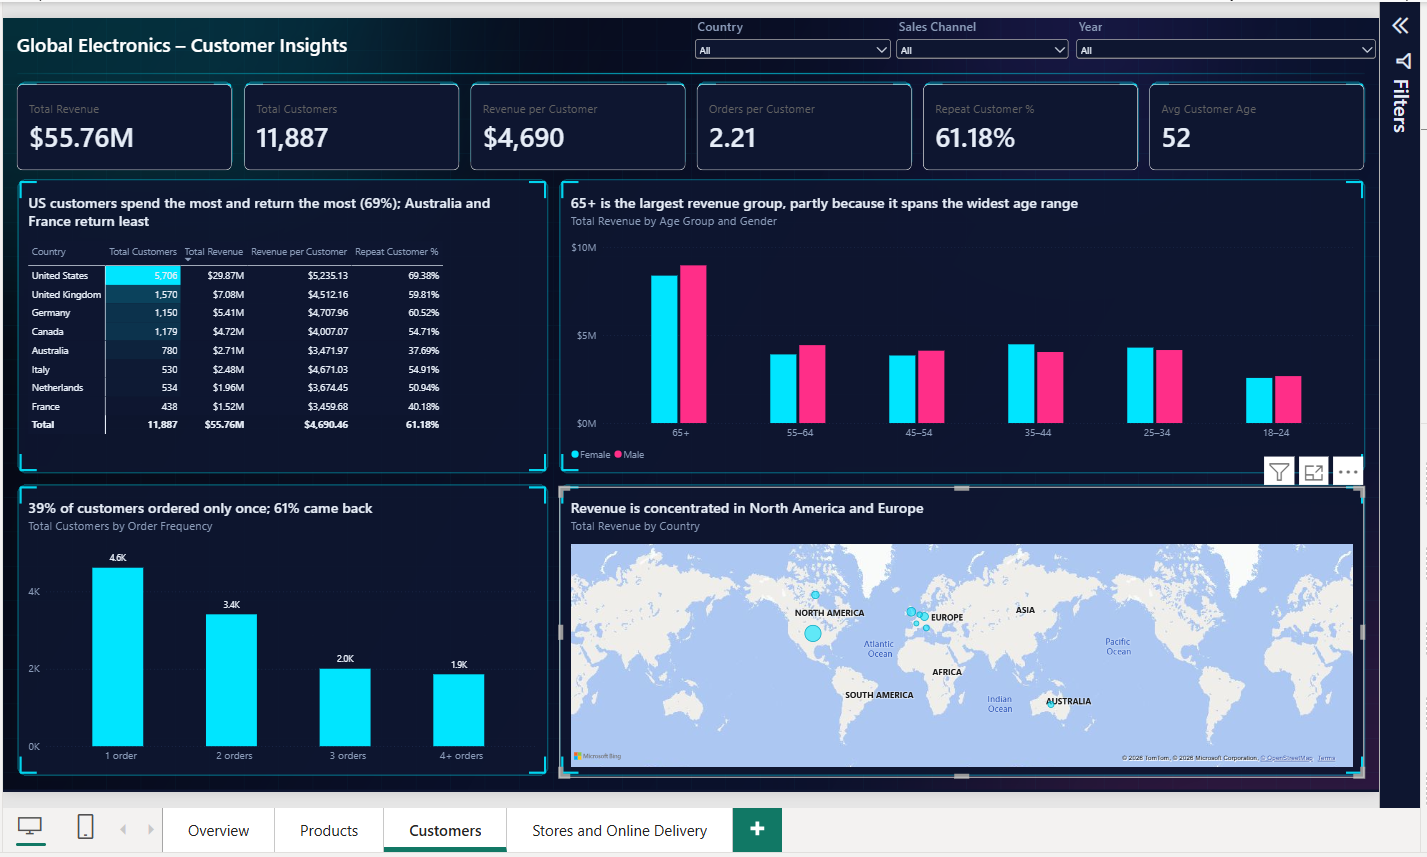

This screenshot's page, from the dashboard's own definition file:
{"tool":"powerbi","page":{"name":"Customers","canvas":[1920,1080],"ordinal":2},"visuals":[{"type":"textbox","box":[20,20,960.2,64.6],"z":0},{"type":"slicer","fields":{"Values":["Date.Year"]},"box":[1492.8,0,427.7,64.6],"z":1000},{"type":"slicer","fields":{"Values":["Stores.Country"]},"box":[960.2,0,282.4,64.6],"z":2000},{"type":"slicer","fields":{"Values":["Sales.Sales Channel"]},"box":[1242.6,0,250.1,64.6],"z":3000},{"type":"cardVisual","fields":{"Data":["_Measures_.Total Revenue"]},"box":[20,92,300,120],"z":4000},{"type":"cardVisual","fields":{"Data":["_Measures_.Revenue per Customer"]},"box":[652,92,300,120],"z":5000},{"type":"cardVisual","fields":{"Data":["_Measures_.Total Customers"]},"box":[336,92,300,120],"z":6000},{"type":"cardVisual","fields":{"Data":["_Measures_.Orders per Customer"]},"box":[968,92,300,120],"z":7000},{"type":"cardVisual","fields":{"Data":["_Measures_.Repeat Customer %"]},"box":[1284,92,300,120],"z":8000},{"type":"cardVisual","title":"Revenue YoY % (Select a Year)","fields":{"Data":["_Measures_.Avg Customer Age"]},"box":[1600,92,300,120],"z":9000},{"type":"pivotTable","title":"US customers spend the most and return the most (69%); Australia and France return least","fields":{"Rows":["Customers.Country"],"Values":["_Measures_.Total Customers","_Measures_.Total Revenue","_Measures_.Revenue per Customer","_Measures_.Repeat Customer %"]},"box":[20,228,740,410],"z":10000},{"type":"clusteredColumnChart","title":"65+ is the largest revenue group, partly because it spans the widest age range","fields":{"Category":["Customers.Age Group"],"Series":["Customers.Gender"],"Y":["_Measures_.Total Revenue"]},"box":[776,228,1124,410],"z":11000},{"type":"clusteredColumnChart","title":"39% of customers ordered only once; 61% came back","fields":{"Category":["Customers.Order Frequency"],"Y":["_Measures_.Total Customers"]},"box":[20,654,740,406],"z":12000},{"type":"map","title":"Revenue is concentrated in North America and Europe","fields":{"Category":["Customers.Country"],"Size":["_Measures_.Total Revenue"]},"box":[776,654,1124,406],"z":13000}]}

Visuals, with their boxes on the page's 1920x1080 design canvas (x1, y1, x2, y2). These are canvas units, not pixel positions in the 1427x857 screenshot, which may show the page scaled, cropped or inside an application window:
textbox: (x1=20, y1=20, x2=980, y2=85)
slicer - Date.Year: (x1=1493, y1=0, x2=1920, y2=65)
slicer - Stores.Country: (x1=960, y1=0, x2=1243, y2=65)
slicer - Sales.Sales Channel: (x1=1243, y1=0, x2=1493, y2=65)
cardVisual - _Measures_.Total Revenue: (x1=20, y1=92, x2=320, y2=212)
cardVisual - _Measures_.Revenue per Customer: (x1=652, y1=92, x2=952, y2=212)
cardVisual - _Measures_.Total Customers: (x1=336, y1=92, x2=636, y2=212)
cardVisual - _Measures_.Orders per Customer: (x1=968, y1=92, x2=1268, y2=212)
cardVisual - _Measures_.Repeat Customer %: (x1=1284, y1=92, x2=1584, y2=212)
"Revenue YoY % (Select a Year)" cardVisual: (x1=1600, y1=92, x2=1900, y2=212)
"US customers spend the most and return the most (69%); Australia and France return least" pivotTable: (x1=20, y1=228, x2=760, y2=638)
"65+ is the largest revenue group, partly because it spans the widest age range" clusteredColumnChart: (x1=776, y1=228, x2=1900, y2=638)
"39% of customers ordered only once; 61% came back" clusteredColumnChart: (x1=20, y1=654, x2=760, y2=1060)
"Revenue is concentrated in North America and Europe" map: (x1=776, y1=654, x2=1900, y2=1060)
